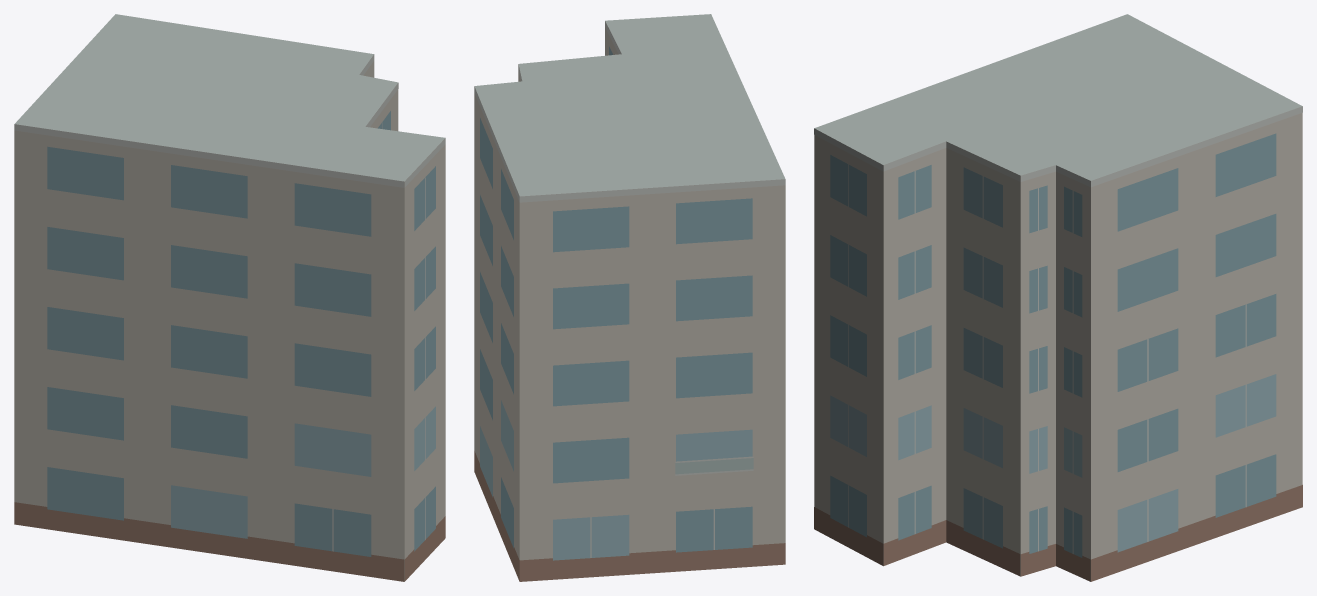
The model's file is survey-upis-32943005.glb.
The picture shows the model from 3 angles, left to right: view 1: azimuth 30°, elevation 25°; view 2: azimuth 150°, elevation 25°; view 3: azimuth 270°, elevation 25°; orthographic projection. The views are drawn at different scales.
Visible parts, largest first — view 1: survey-upis-32943005.tmp; view 2: survey-upis-32943005.tmp; view 3: survey-upis-32943005.tmp.
Part boxes in pixels (x1,y1,x2,y2): survey-upis-32943005.tmp: (14, 14, 445, 581); survey-upis-32943005.tmp: (474, 14, 785, 581); survey-upis-32943005.tmp: (814, 14, 1302, 581).
Bounding box in the file's own units: 13.63 × 15.25 × 16.85.
